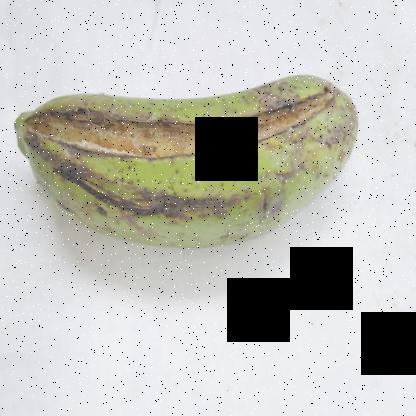rotten: (6, 70, 366, 235)
